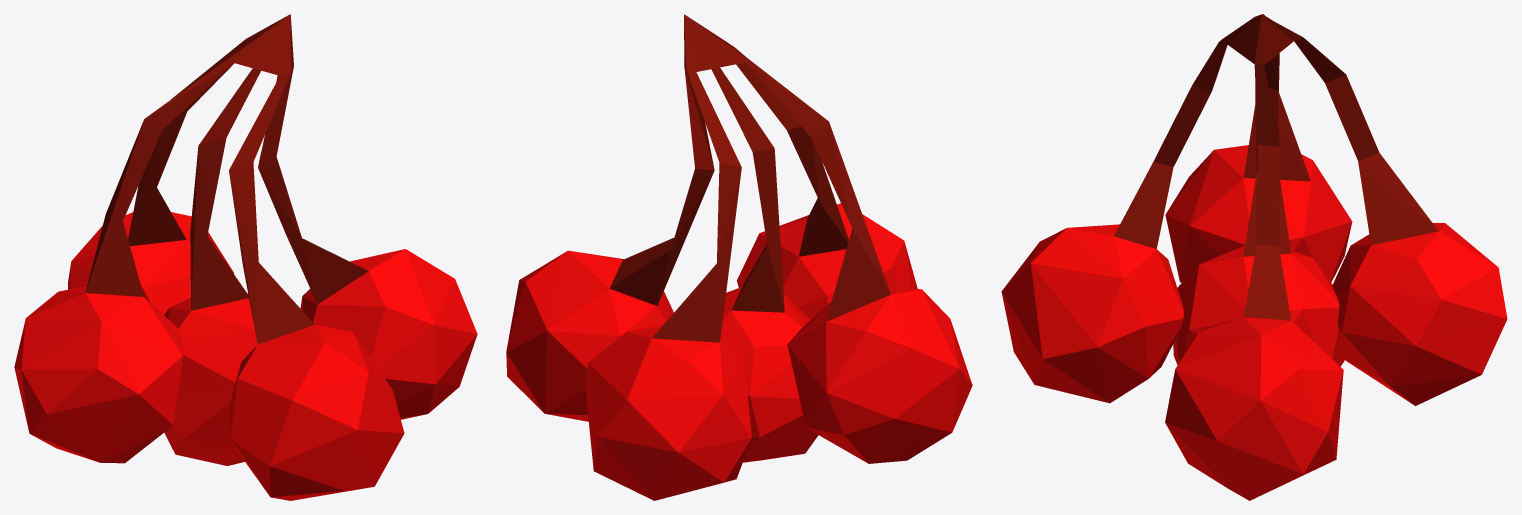
Rendered from Cherries.fbx.
3 renders of one model, left to right at view 1: azimuth 30°, elevation 25°; view 2: azimuth 150°, elevation 25°; view 3: azimuth 270°, elevation 25°, orthographic.
Visible parts, largest first — view 1: Cherries; view 2: Cherries; view 3: Cherries.
Part boxes in pixels (x1=…): Cherries: x1=14, y1=14, x2=477, y2=500; Cherries: x1=506, y1=14, x2=972, y2=500; Cherries: x1=1001, y1=14, x2=1507, y2=500.
Bounding box in the file's own units: 8.86 × 8.36 × 8.86.
